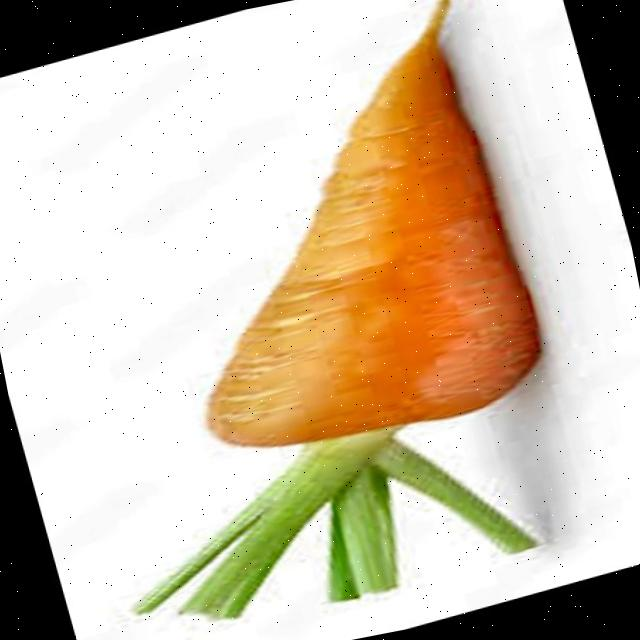carrot: (136, 0, 538, 618)
